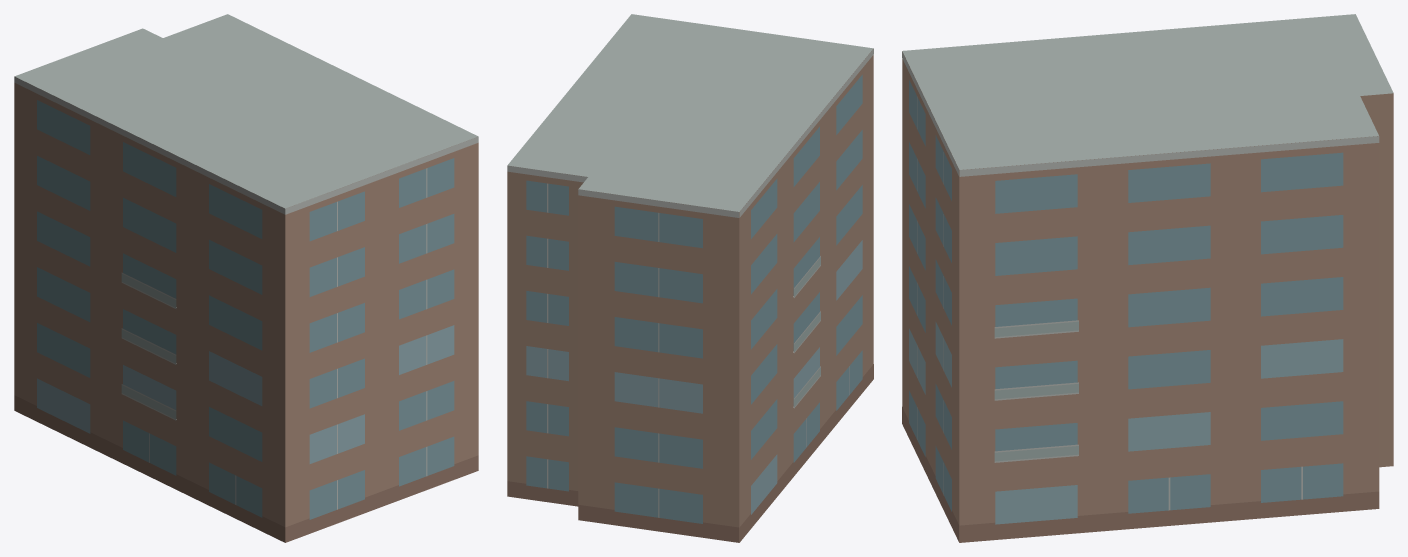
File: survey-upis-32568256.glb
3 renders of one model, left to right at view 1: azimuth 30°, elevation 25°; view 2: azimuth 150°, elevation 25°; view 3: azimuth 270°, elevation 25°, orthographic. The views are drawn at different scales.
Visible parts, largest first — view 1: survey-upis-32568256.tmp; view 2: survey-upis-32568256.tmp; view 3: survey-upis-32568256.tmp.
Part boxes in pixels (x1,y1,x2,y2): survey-upis-32568256.tmp: [14, 14, 478, 542]; survey-upis-32568256.tmp: [507, 14, 873, 542]; survey-upis-32568256.tmp: [902, 14, 1393, 542].
Bounding box in the file's own units: 11.86 × 13.2 × 15.79.
